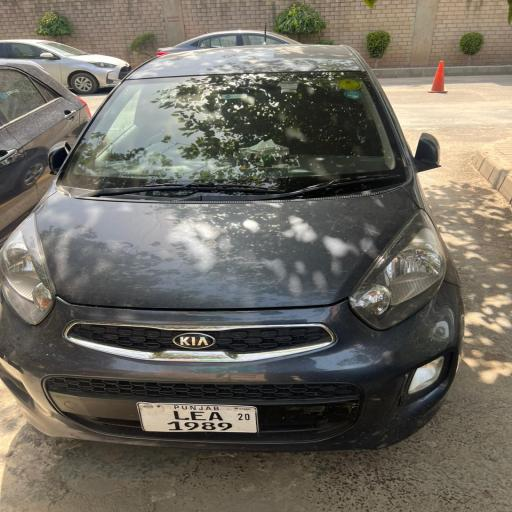bnu_sticker: (338, 79, 362, 91)
number_plate: (138, 402, 258, 436)
